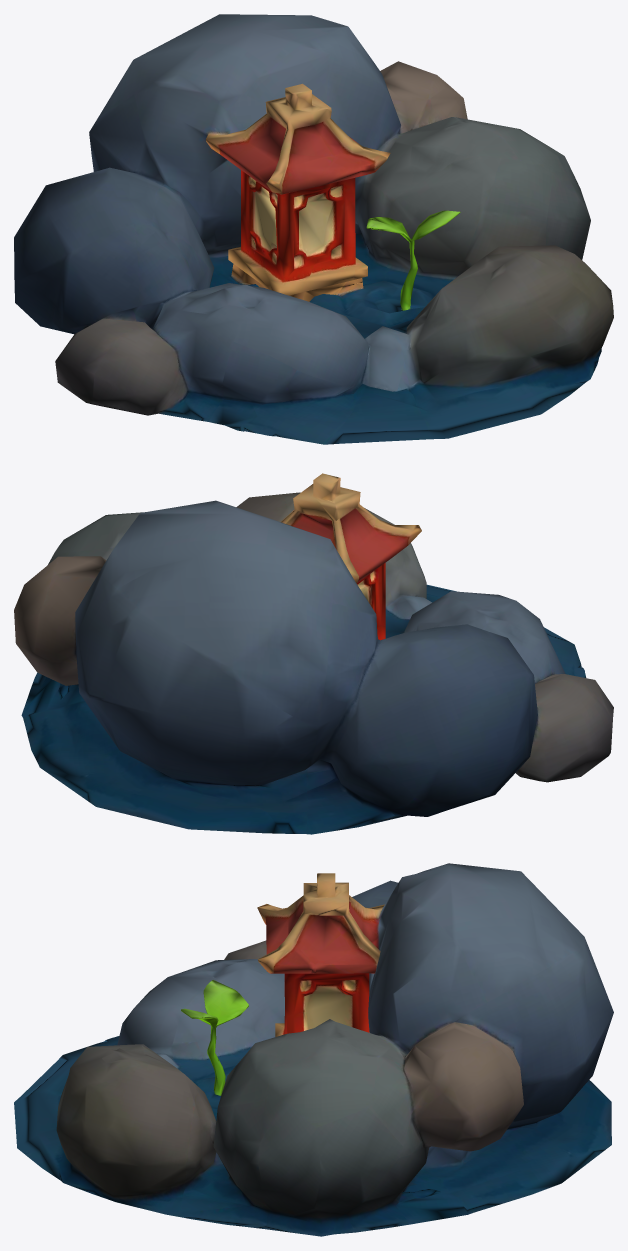
The model's file is ganhe_ding_ren.glb.
3 renders of one model, top to bottom at view 1: azimuth 30°, elevation 25°; view 2: azimuth 150°, elevation 25°; view 3: azimuth 270°, elevation 25°, orthographic. The views are drawn at different scales.
Parts seen in each view (by area): view 1: tripo_node_5b8b6798-d274-4602-9f3b-3512dfe20b4d; view 2: tripo_node_5b8b6798-d274-4602-9f3b-3512dfe20b4d; view 3: tripo_node_5b8b6798-d274-4602-9f3b-3512dfe20b4d.
Part boxes in pixels (left/top/right/bottom): tripo_node_5b8b6798-d274-4602-9f3b-3512dfe20b4d: left=14, top=14, right=613, bottom=444; tripo_node_5b8b6798-d274-4602-9f3b-3512dfe20b4d: left=14, top=473, right=613, bottom=834; tripo_node_5b8b6798-d274-4602-9f3b-3512dfe20b4d: left=14, top=863, right=613, bottom=1236.
Bounding box in the file's own units: 0.9937 × 0.4323 × 0.9869.
1 material, 1 textured.
